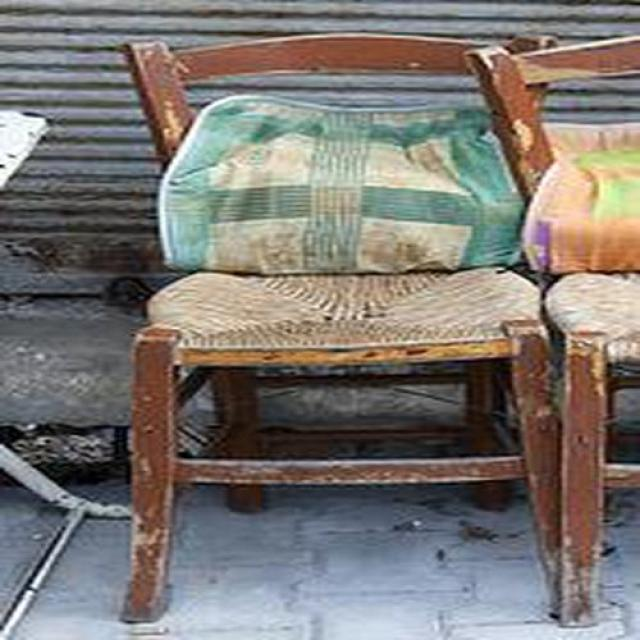chair: (120, 29, 640, 625)
